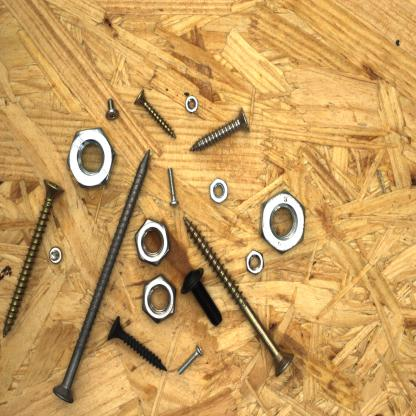screw: (49, 146, 152, 407), (182, 211, 296, 381), (2, 174, 67, 342), (106, 310, 170, 374), (188, 102, 253, 154), (179, 264, 227, 330), (132, 87, 179, 141), (175, 342, 206, 378), (162, 164, 181, 208), (103, 95, 121, 123)
